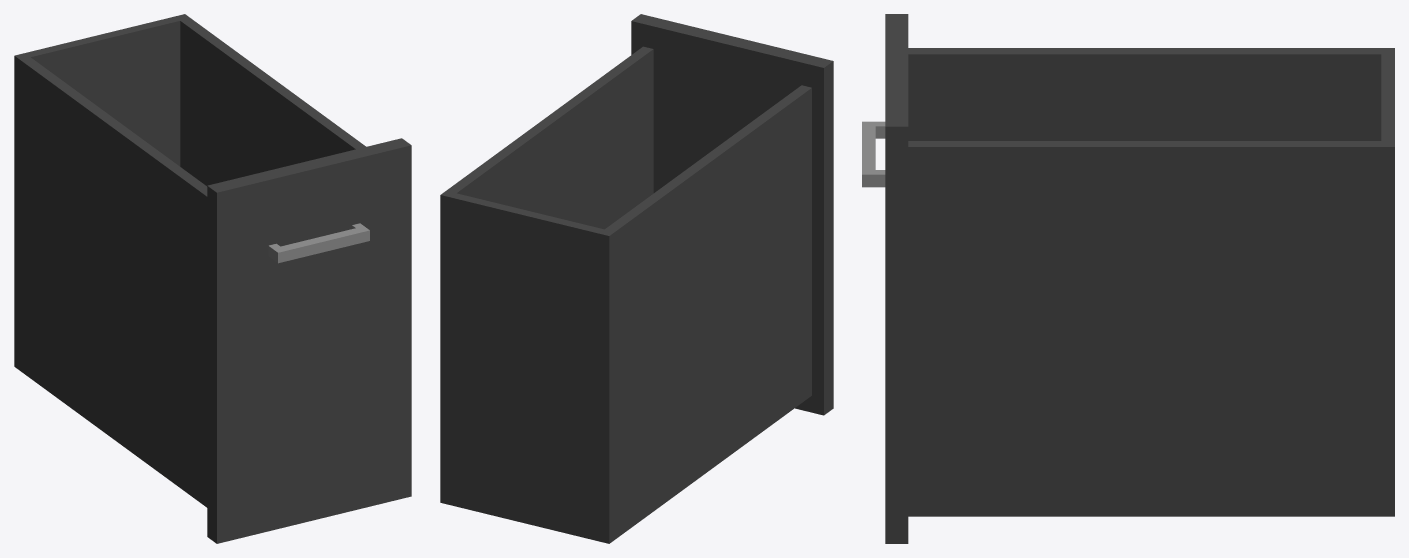
The model's file is Door1_C3_08.fbx.
3 views of the same model, side by side, from view 1: azimuth 30°, elevation 25°; view 2: azimuth 150°, elevation 25°; view 3: azimuth 270°, elevation 25° (orthographic). The views are drawn at different scales.
Visible parts, largest first — view 1: Door1_C3_08; view 2: Door1_C3_08; view 3: Door1_C3_08.
Part boxes in pixels (bbox=[...]): Door1_C3_08: bbox=[14, 14, 411, 543]; Door1_C3_08: bbox=[440, 14, 833, 543]; Door1_C3_08: bbox=[862, 14, 1394, 543].
Size of the model in its own units: 29 by 50 by 57.89.
